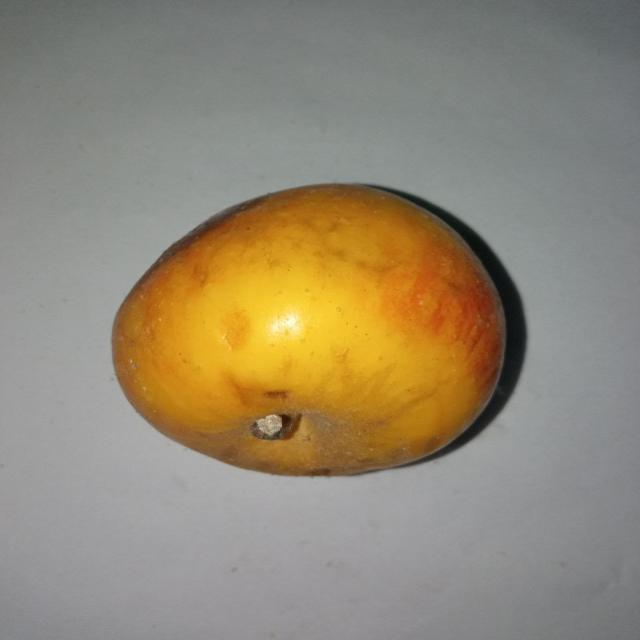fresh_apple: (105, 182, 511, 479)
